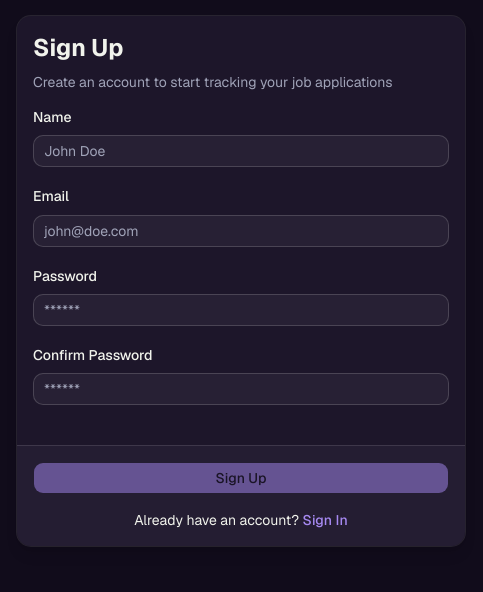
Test: SignUp › shows a required error when the name is left empty after being touched
The width and height of the screenshot is (483, 592).
Click the field labelled "Name" at x=241, y=151, box [33,135,449,167]
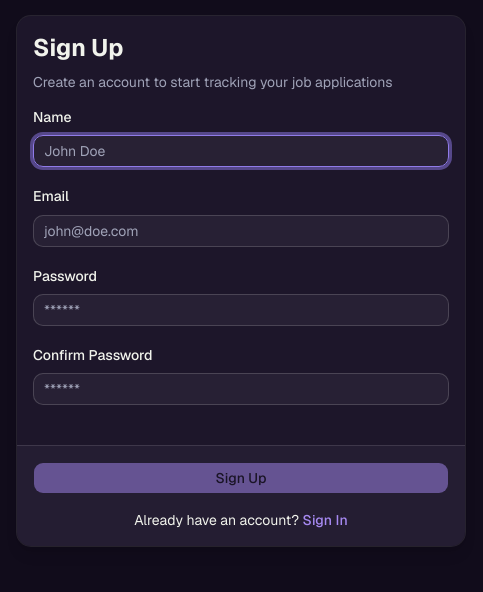
Press Tab
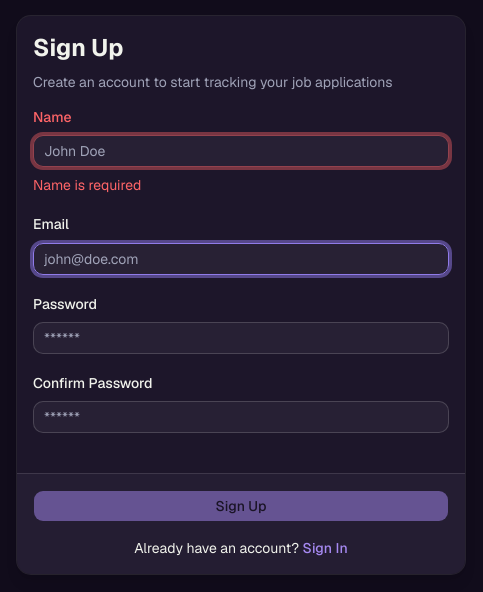
Result: the text "Name is required" is shown at [33,176,141,194]
